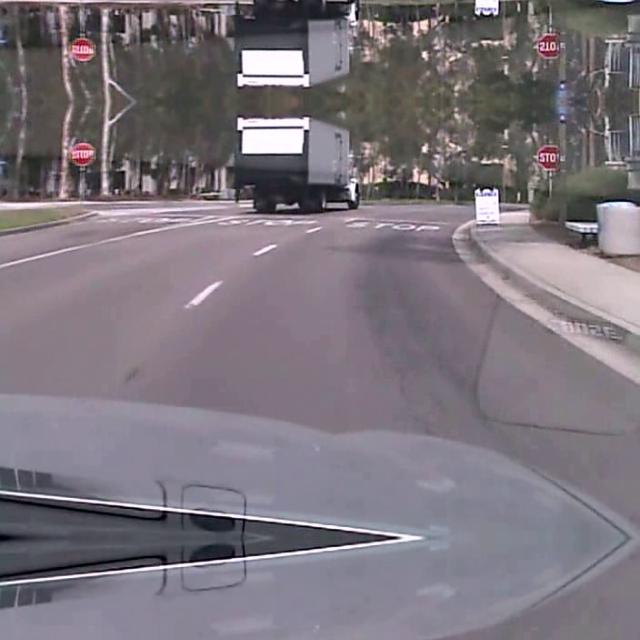stop: (537, 142, 563, 168), (537, 34, 563, 60), (69, 140, 93, 164), (69, 38, 93, 62)
